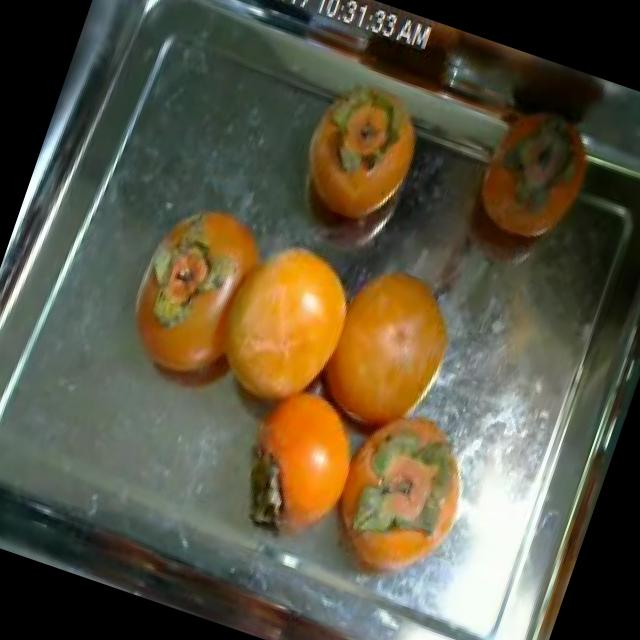Fruit: (292, 232, 488, 462), (344, 392, 498, 558)
